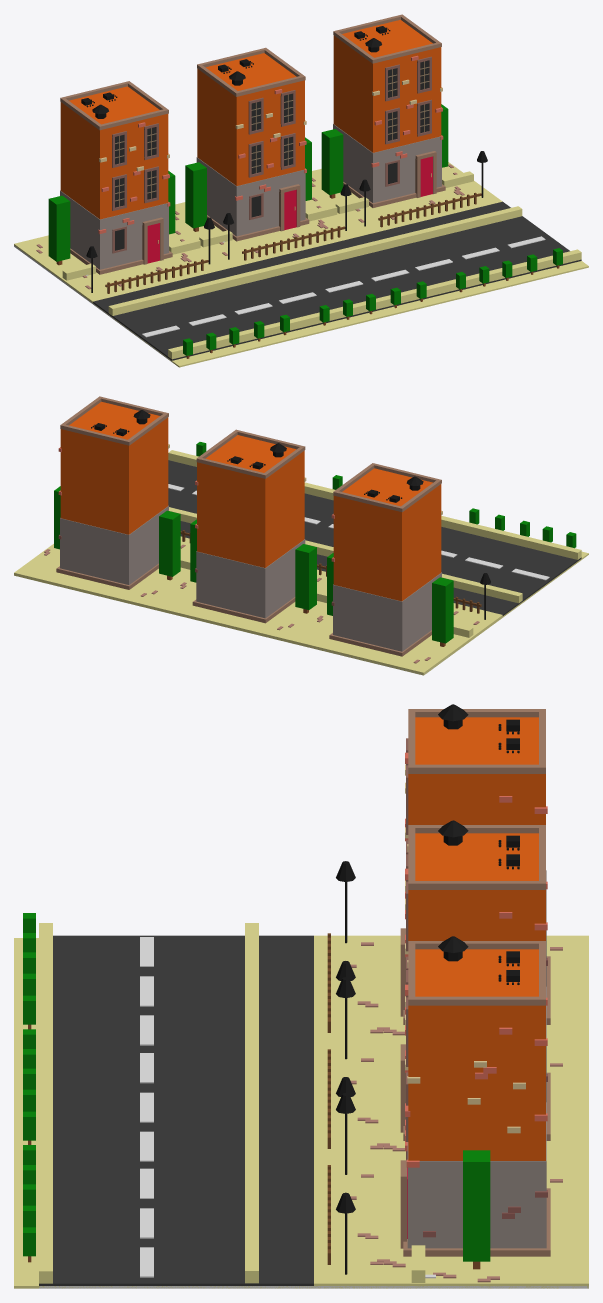
Rendered from LowPolytBuilding.fbx.
3 renders of one model, top to bottom at view 1: azimuth 30°, elevation 25°; view 2: azimuth 150°, elevation 25°; view 3: azimuth 270°, elevation 25°, orthographic. The views are drawn at different scales.
Parts seen in each view (by area): view 1: Cube.007, Cube, Cube.094, Cube.004, Cube.031, Cube.098, Cube.003, Cube.005, Cube.029, Cube.099, Cube.097, Cube.042 (+36 smaller); view 2: Cube, Cube.094, Cube.007, Cube.004, Cube.042, Cube.005, Cube.099, Cube.003, Cube.097, Cube.029, Cube.010, Cube.044 (+20 smaller); view 3: Cube.098, Cube.004, Cube.031, Cube.094, Cube.097, Cube.029, Cube.003, Cube.099, Cube, Cube.007, Cube.044, Cube.010 (+23 smaller).
Part boxes in pixels (box(x1,y1,x2,y2)): Cube.007: box(197, 69, 304, 185); Cube: box(60, 102, 168, 219); Cube.094: box(333, 35, 441, 152); Cube.004: box(93, 268, 308, 360); Cube.031: box(230, 235, 445, 327); Cube.098: box(367, 201, 581, 293); Cube.003: box(14, 229, 229, 302); Cube.005: box(60, 190, 168, 269); Cube.029: box(175, 195, 365, 267); Cube.099: box(333, 124, 441, 202); Cube.097: box(312, 162, 502, 234); Cube.042: box(196, 157, 305, 236); Cube: box(333, 484, 441, 601); Cube.094: box(60, 417, 168, 534); Cube.007: box(197, 450, 304, 567); Cube.004: box(441, 527, 581, 615); Cube.042: box(196, 539, 305, 618); Cube.005: box(333, 572, 441, 651); Cube.099: box(60, 505, 168, 584); Cube.003: box(287, 603, 502, 673); Cube.097: box(14, 536, 190, 607); Cube.029: box(150, 569, 326, 640); Cube.010: box(342, 468, 432, 506); Cube.044: box(205, 435, 295, 472); Cube.098: box(39, 1168, 313, 1285); Cube.004: box(53, 935, 313, 1051); Cube.031: box(53, 1051, 313, 1167); Cube.094: box(408, 1005, 545, 1160); Cube.097: box(314, 1168, 588, 1285); Cube.029: box(314, 1051, 588, 1167); Cube.003: box(314, 935, 588, 1051); Cube.099: box(407, 1102, 546, 1248); Cube: box(408, 774, 545, 824); Cube.007: box(408, 890, 545, 940); Cube.044: box(415, 833, 538, 880); Cube.010: box(415, 717, 538, 764).
Bounding box in the file's own units: 11989 × 4428 × 8365.
